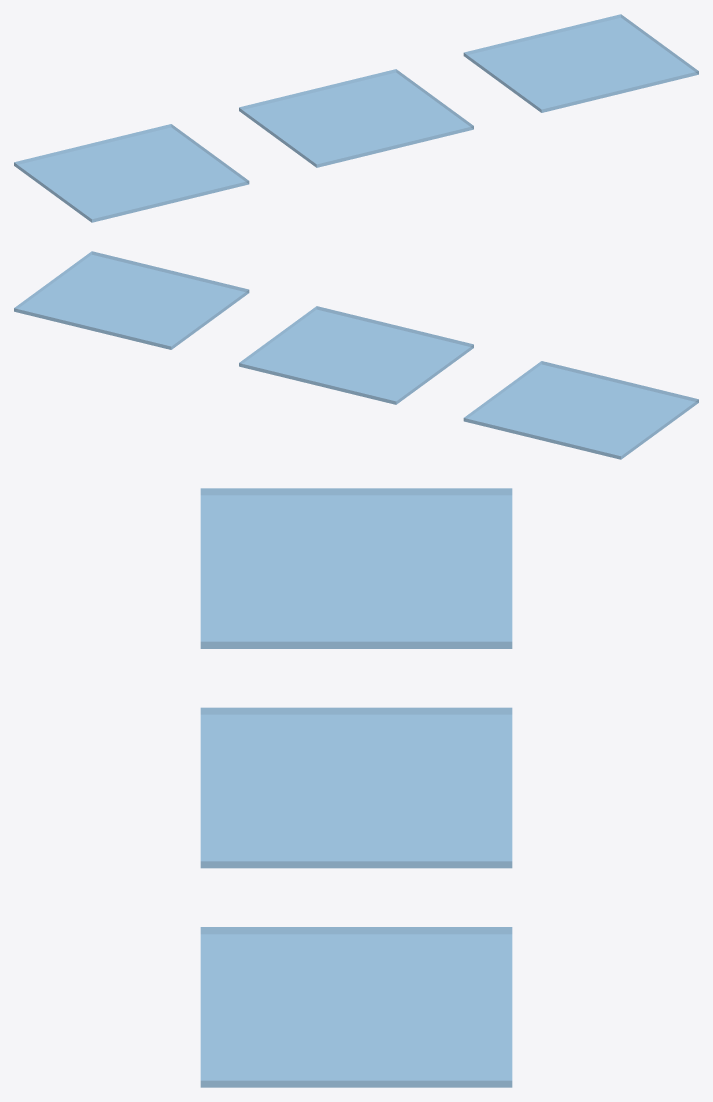
File: glass.obj
3 renders of one model, top to bottom at view 1: azimuth 30°, elevation 25°; view 2: azimuth 150°, elevation 25°; view 3: azimuth 270°, elevation 25°, orthographic. The views are drawn at different scales.
Parts seen in each view (by area): view 1: window_glass_0, window_glass_2, window_glass_1; view 2: window_glass_0, window_glass_2, window_glass_1; view 3: window_glass_1, window_glass_0, window_glass_2.
Boxes of the visible parts, x1=… form: window_glass_0: x1=14, y1=124, x2=249, y2=222; window_glass_2: x1=463, y1=14, x2=698, y2=112; window_glass_1: x1=239, y1=69, x2=473, y2=167; window_glass_0: x1=463, y1=361, x2=698, y2=459; window_glass_2: x1=14, y1=251, x2=249, y2=349; window_glass_1: x1=239, y1=306, x2=473, y2=404; window_glass_1: x1=200, y1=707, x2=512, y2=868; window_glass_0: x1=200, y1=488, x2=512, y2=648; window_glass_2: x1=200, y1=927, x2=512, y2=1087.
Size of the model in its own units: 5.4 by 0.03 by 1.2.
